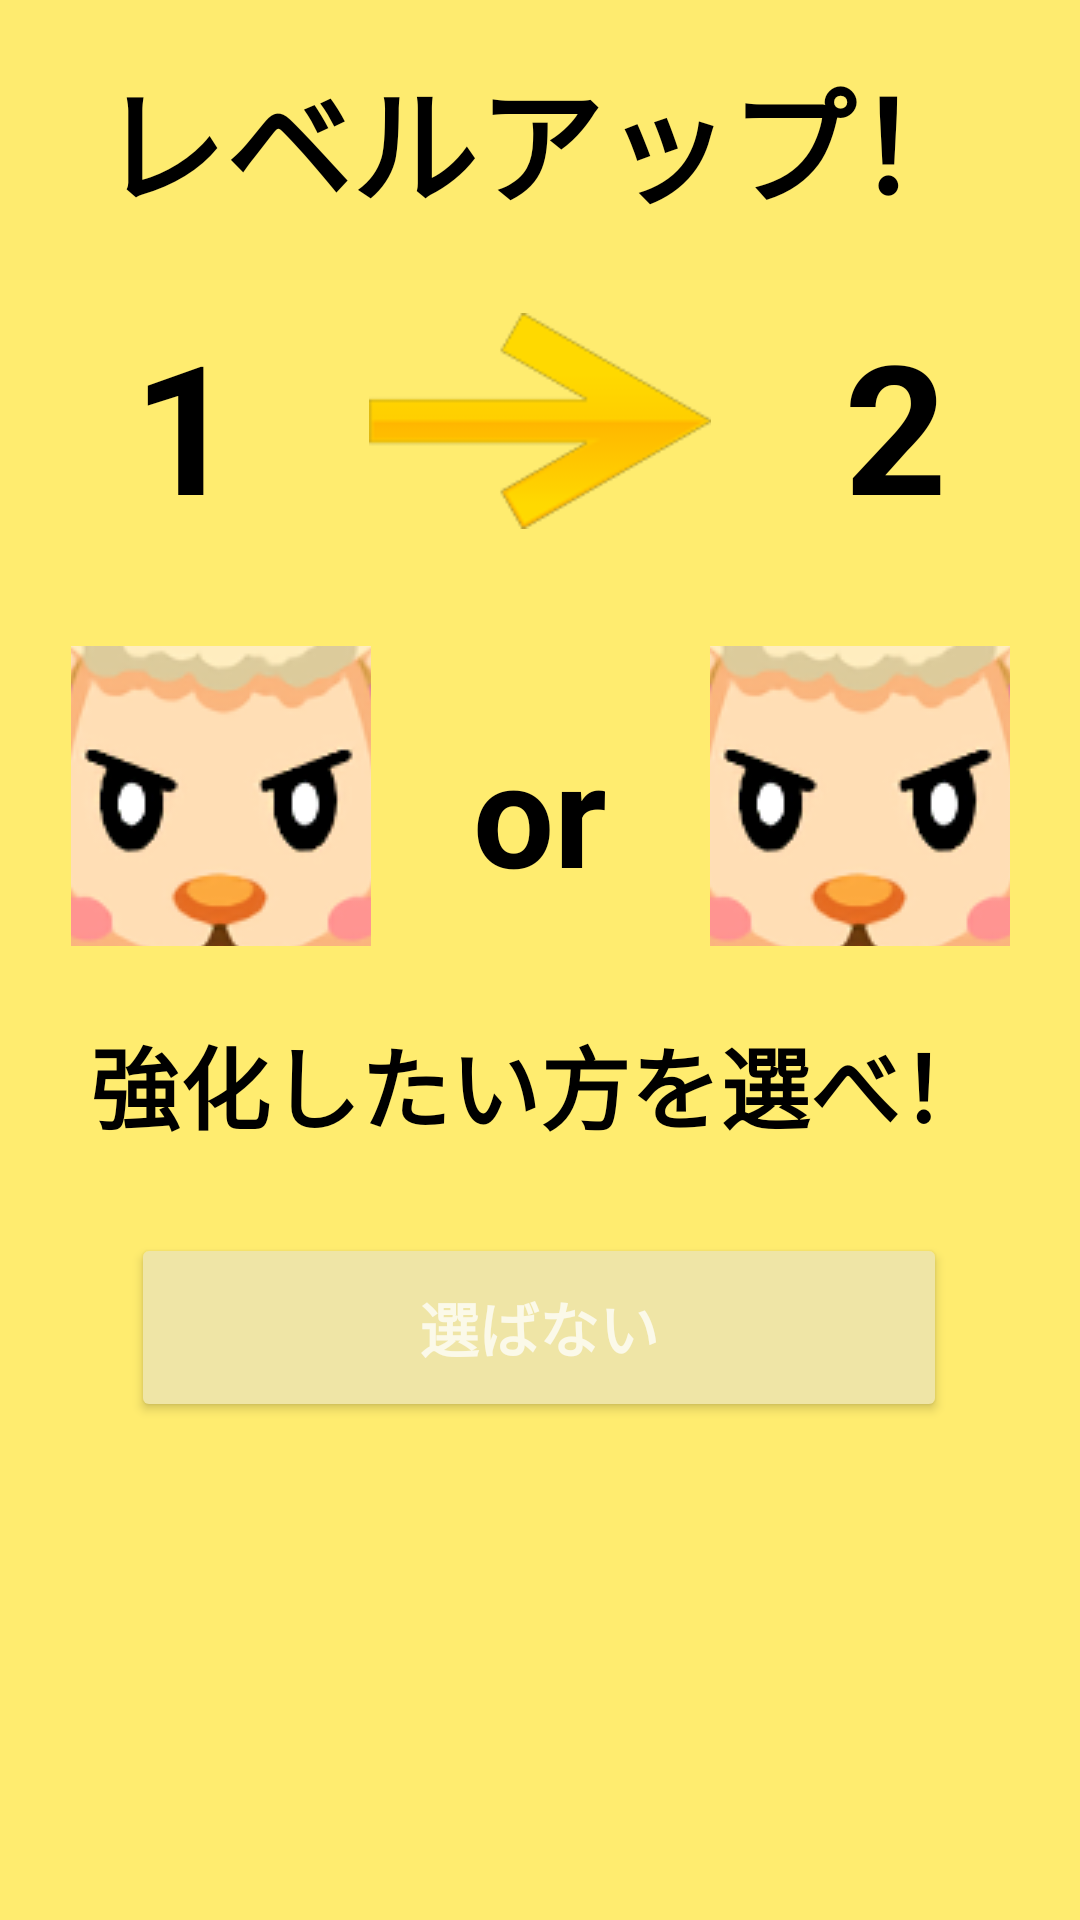

Point at icon controls on the screen. Image size 1080 x 1920, points as (x=x, y=y).
character: (x=221, y=796), (x=860, y=796)
yajirusi: (x=540, y=421)
